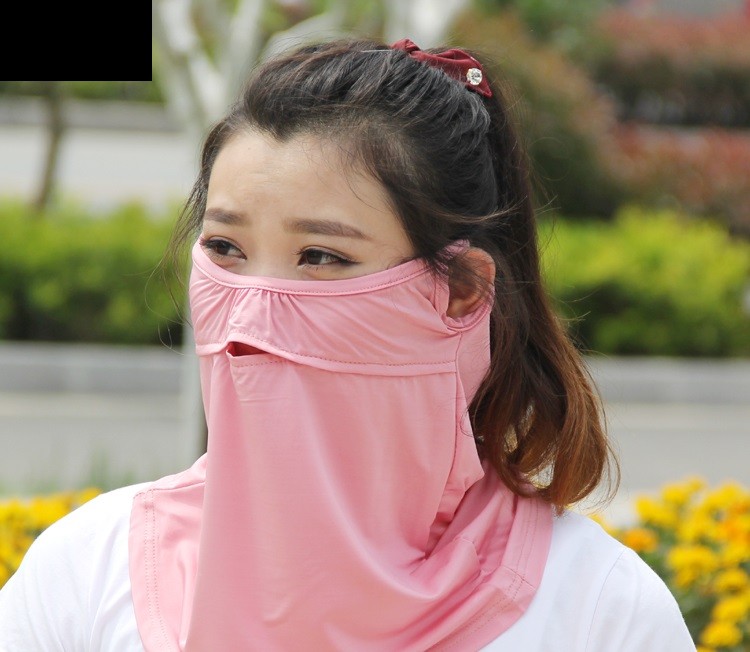face_mask: (192, 122, 432, 428)
